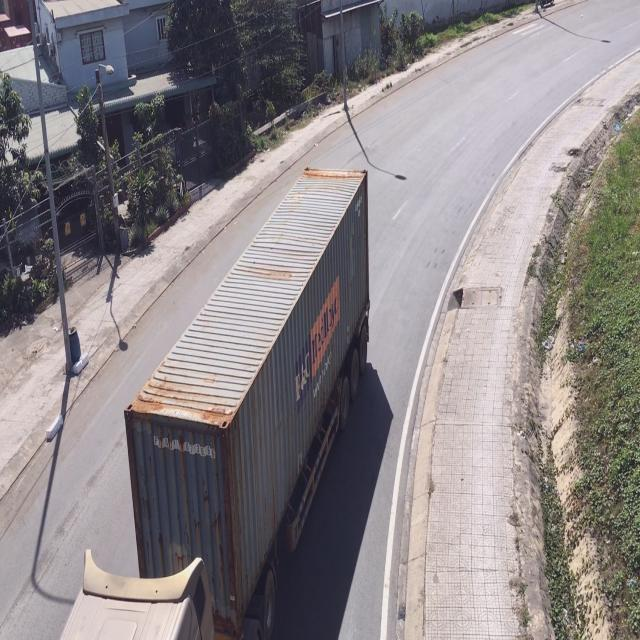truck: (62, 170, 367, 640)
